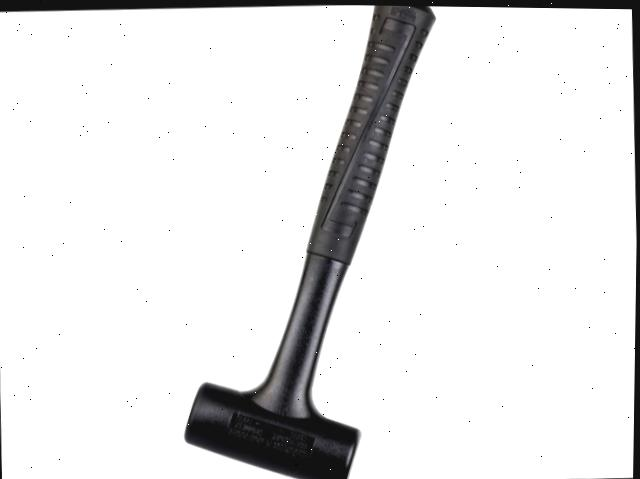hammer: (159, 2, 460, 479)
